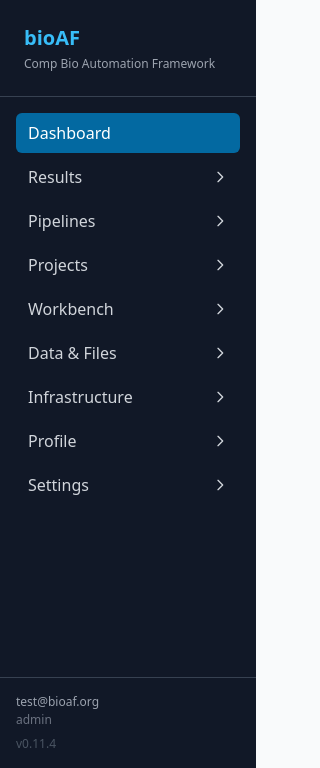
Test: Sidebar › renders Projects as an expandable section with 3 children
Click the button "Projects" at [128, 265], box [16,245,240,285]
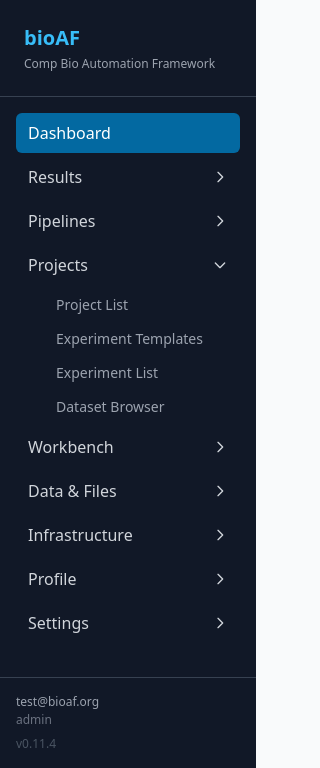
Expected: the link "Project List" is shown, [56,295,128,314]
Expected: the link "Experiment Templates" is shown, [56,329,203,348]
Expected: the link "Experiment List" is shown, [56,363,158,382]
